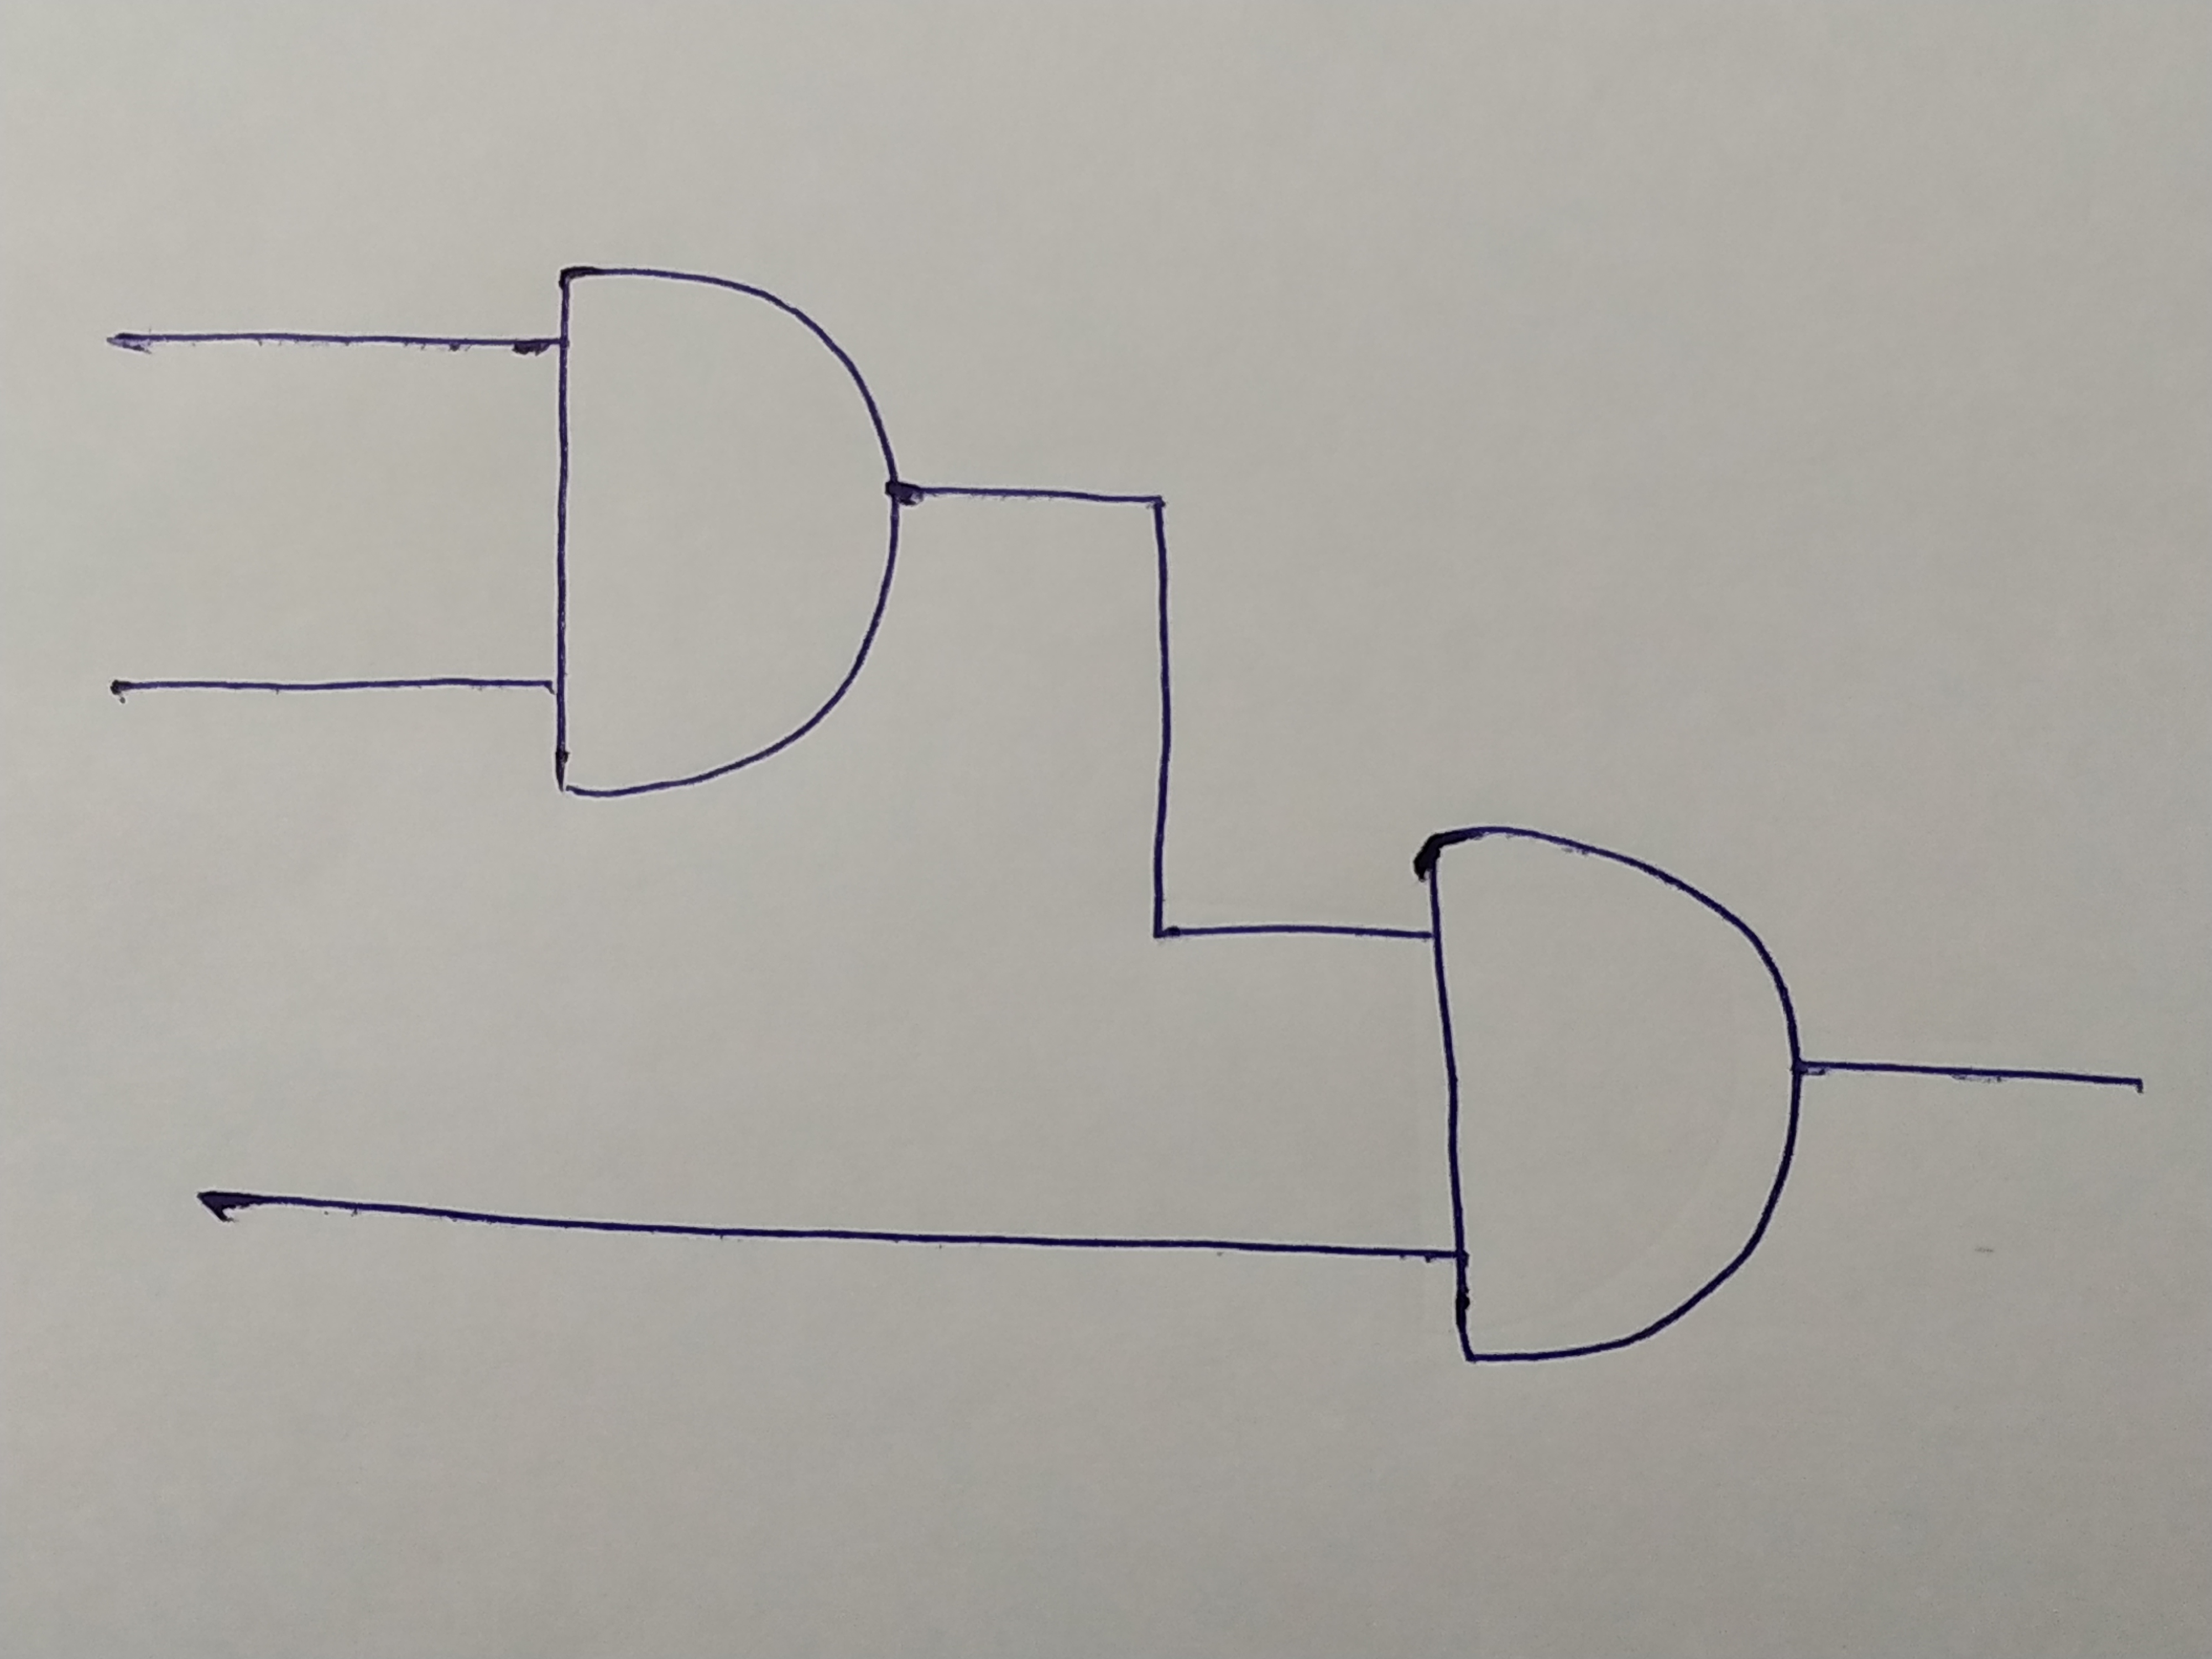and: (1420, 824, 1804, 1364), (545, 261, 902, 800)
